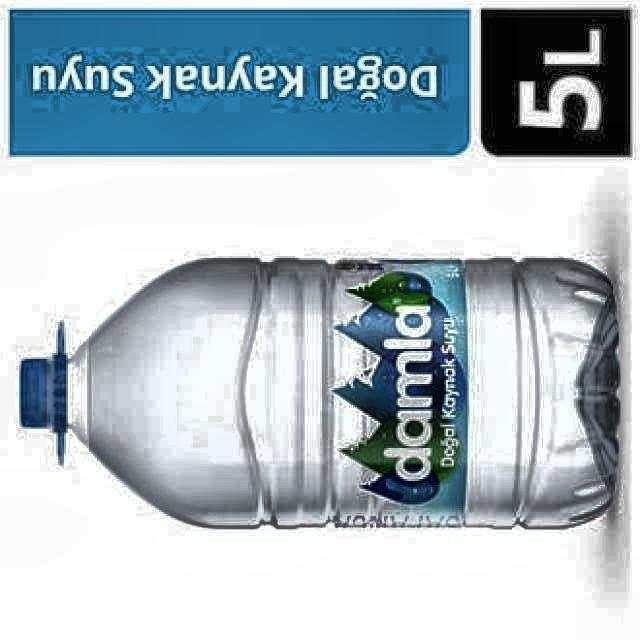plastic: (70, 259, 620, 528), (20, 354, 66, 434)
